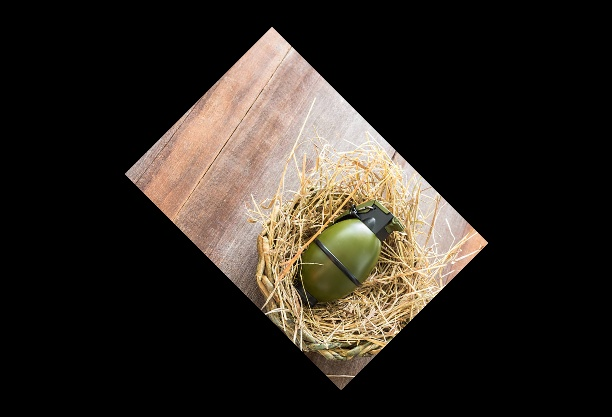e1: (293, 193, 395, 304)
